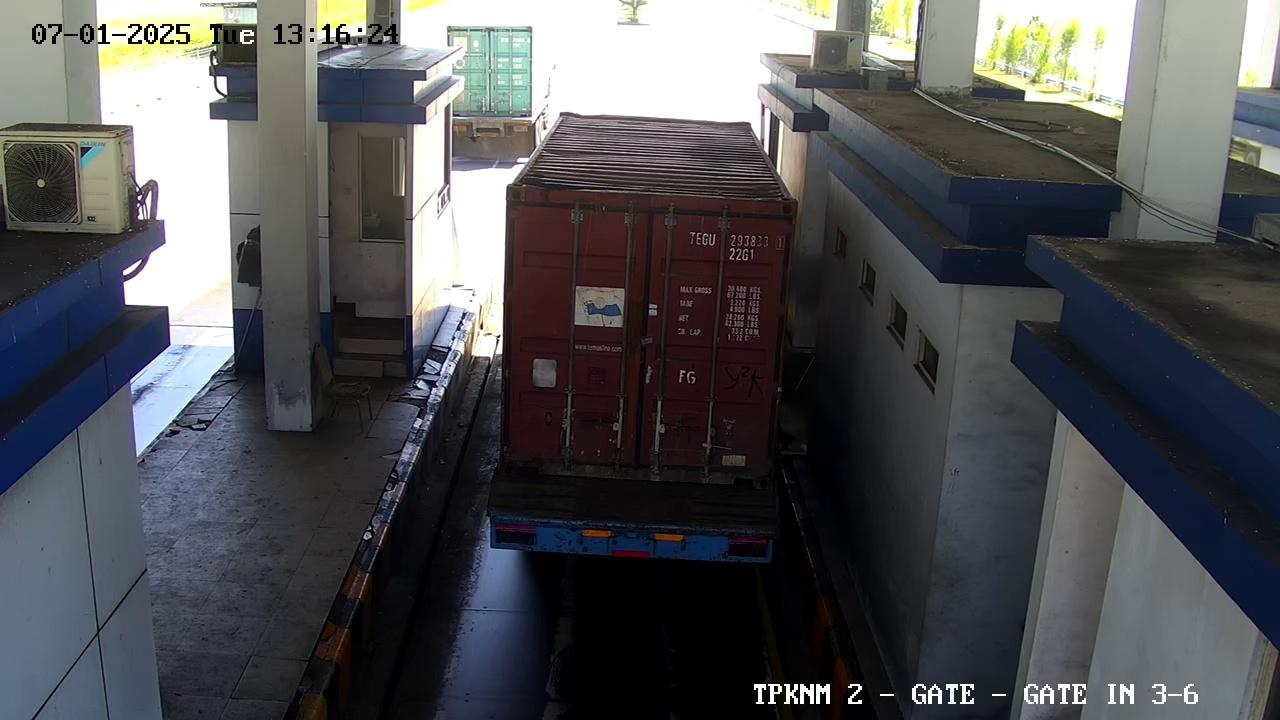Container_ID: (673, 225, 795, 253)
